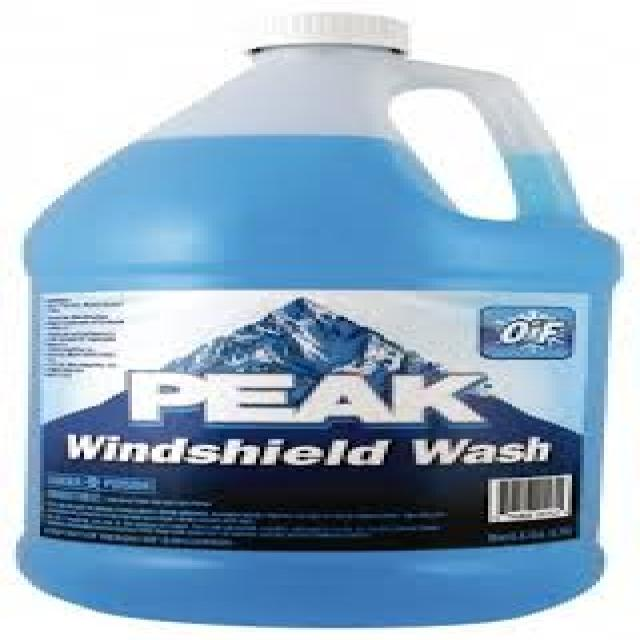winwinshield_washer: (9, 8, 624, 630)
